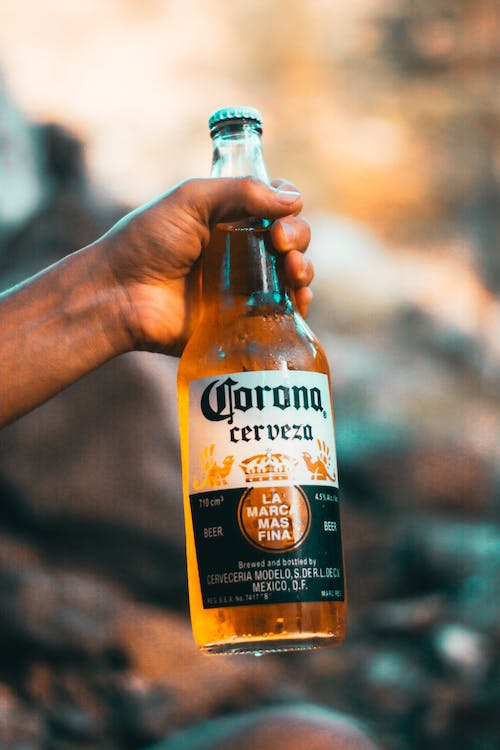alcohol: (173, 104, 350, 658)
